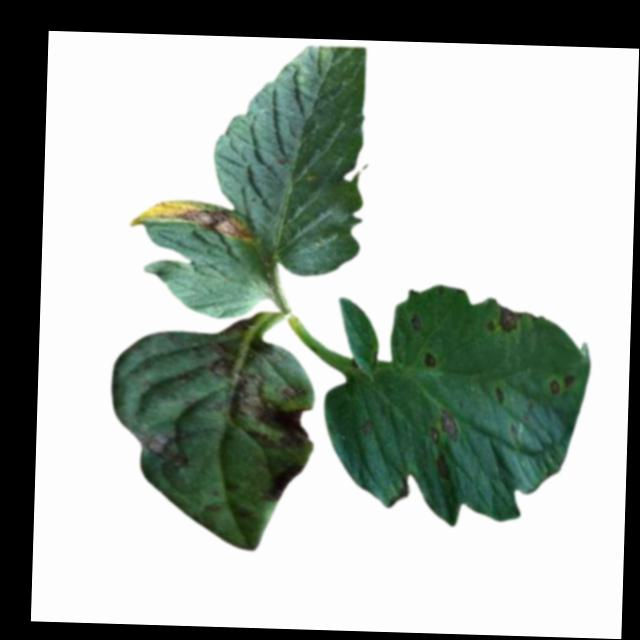Early_blight: (202, 338, 312, 449), (125, 196, 257, 243), (130, 426, 194, 472), (260, 462, 302, 501), (427, 408, 459, 445), (495, 301, 522, 334), (546, 370, 573, 395), (432, 449, 452, 482), (422, 346, 437, 369), (409, 314, 424, 333)
